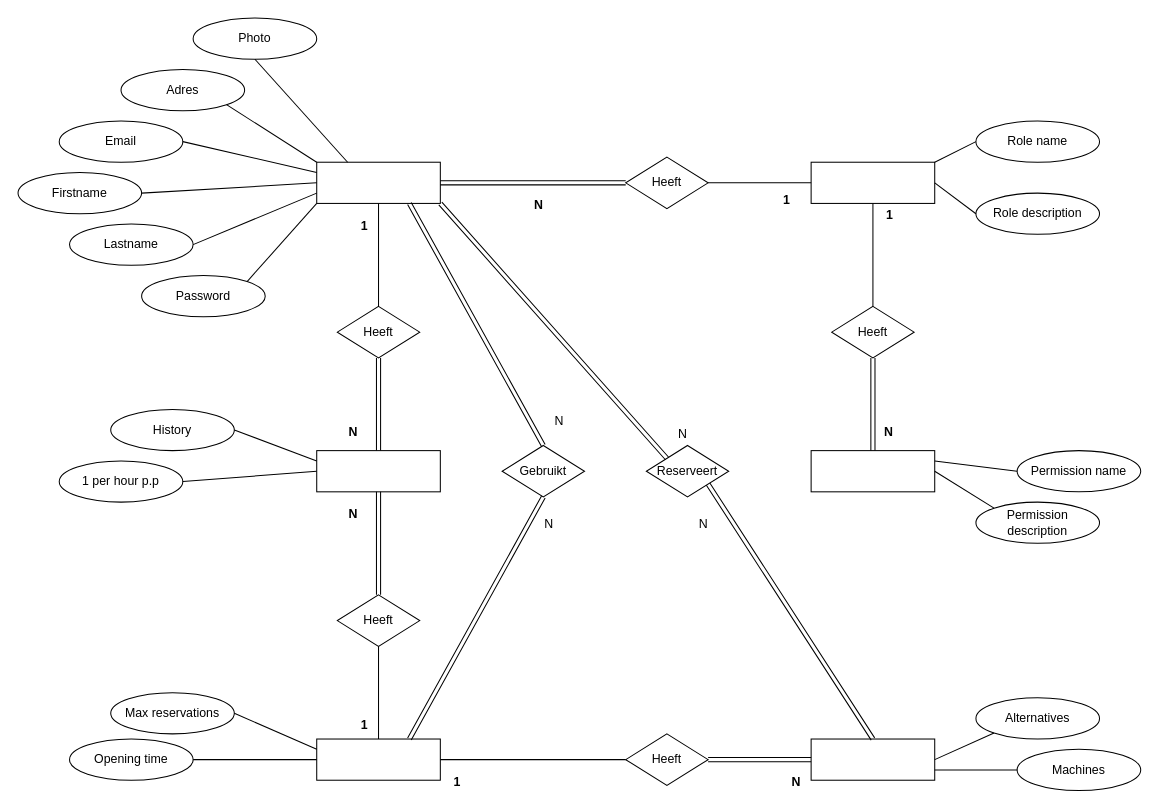
The diagram is 1159 pixels wide and 809 high, and some of its shapes have lost their labels. The shapes that lost their labels are listed below. From the top down, each one's centre as x and y in pixels, then its label:
At point (378, 182): "User".
At point (872, 182): "Roles".
At point (378, 471): "User reservations".
At point (872, 471): "Permissions".
At point (378, 759): "Time slots".
At point (872, 759): "Machine's".
